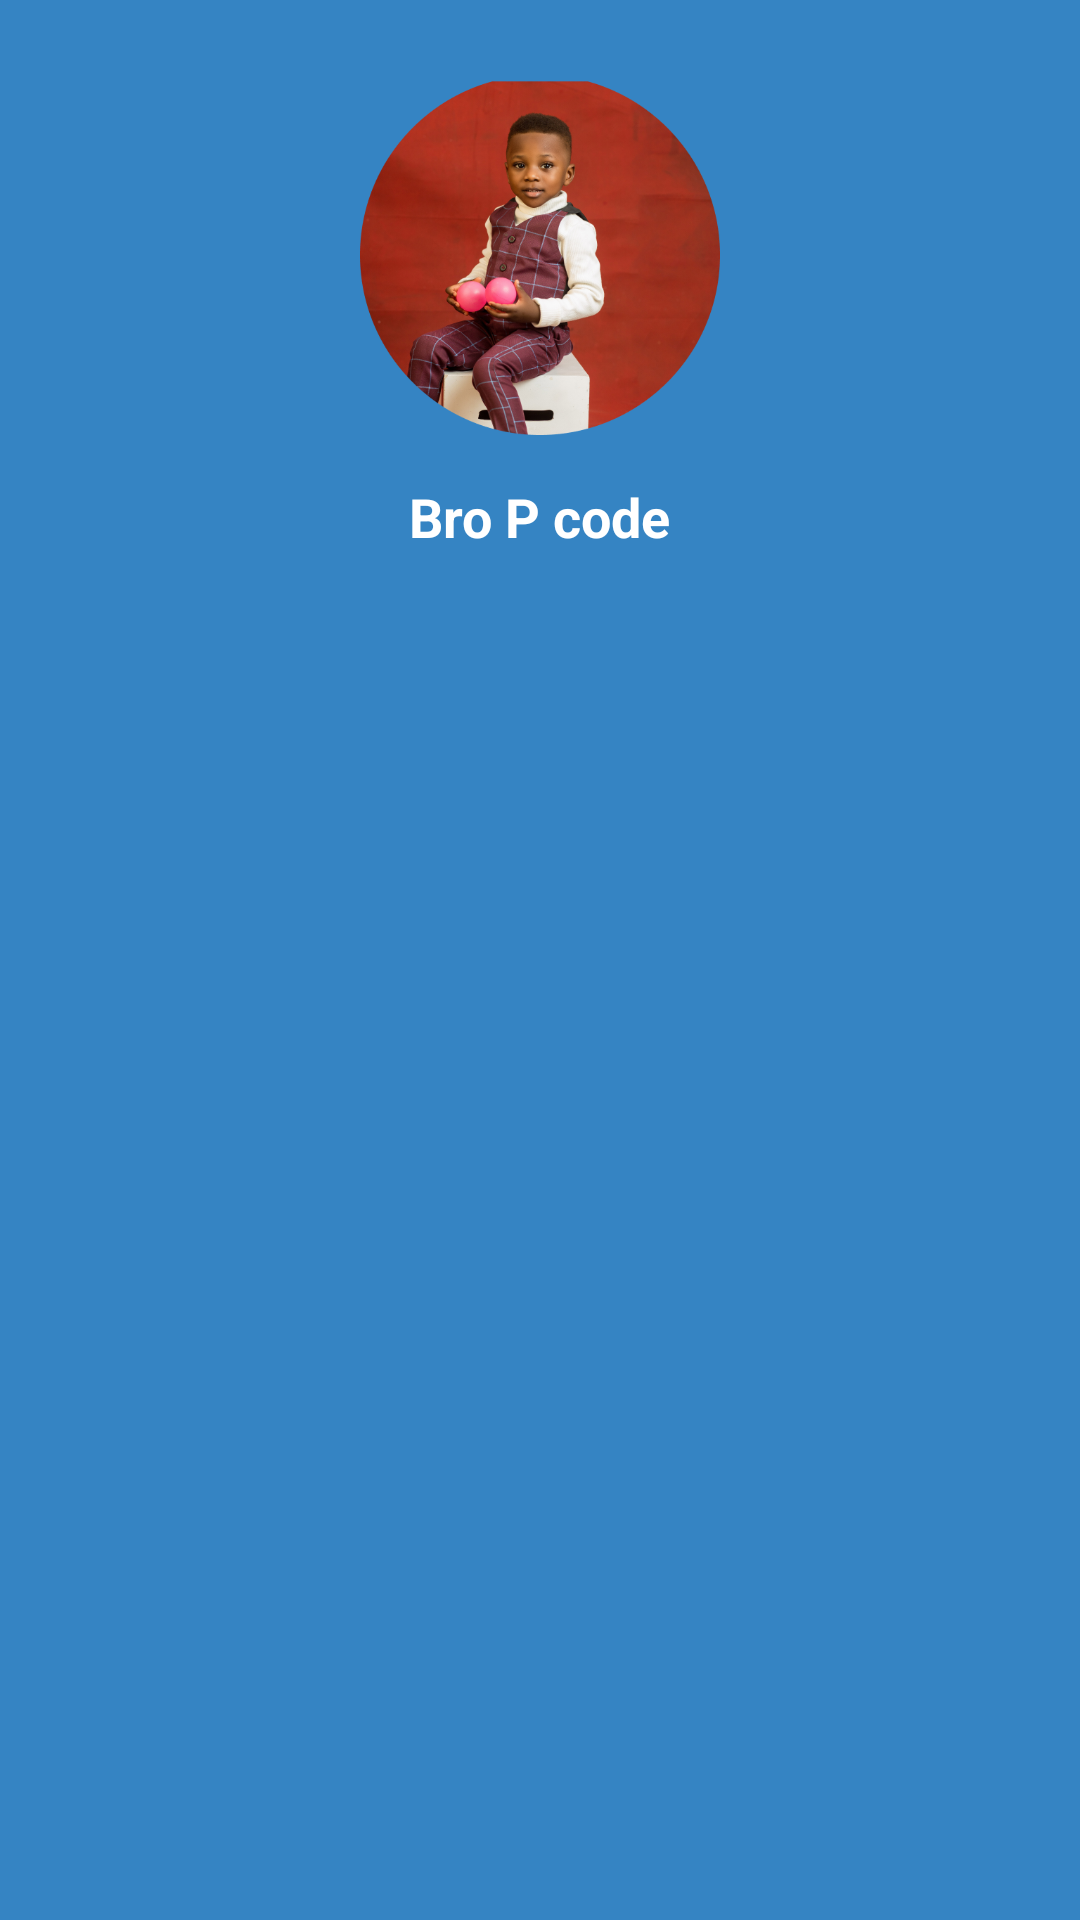

Locate icon controls on the screen. Image size 1080*1920, boxes as (x1, y1, x2, y2).
babymi: (360, 81, 720, 435)
